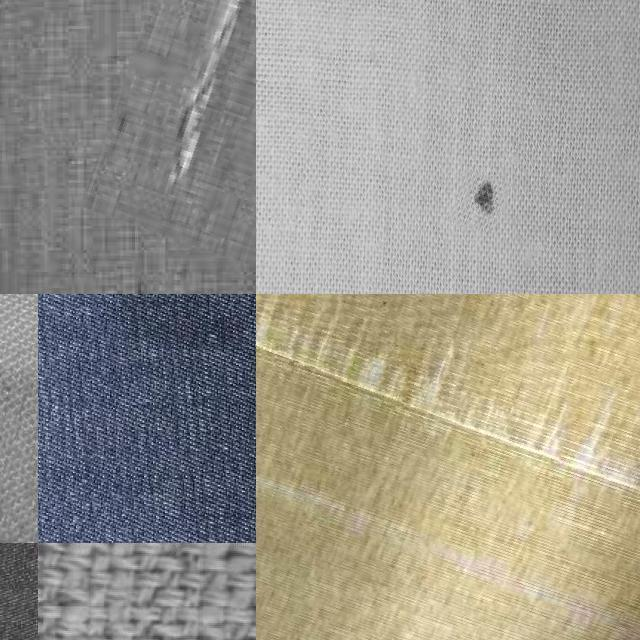Hole: (107, 294, 256, 392), (450, 170, 508, 232)
Thread_other: (256, 294, 640, 640), (106, 0, 256, 286)
